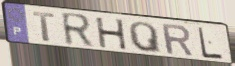H: (94, 17, 129, 51)
L: (197, 26, 225, 60)
Q: (127, 21, 163, 55)
R: (60, 11, 96, 49), (160, 22, 195, 58)
T: (31, 12, 57, 44)
